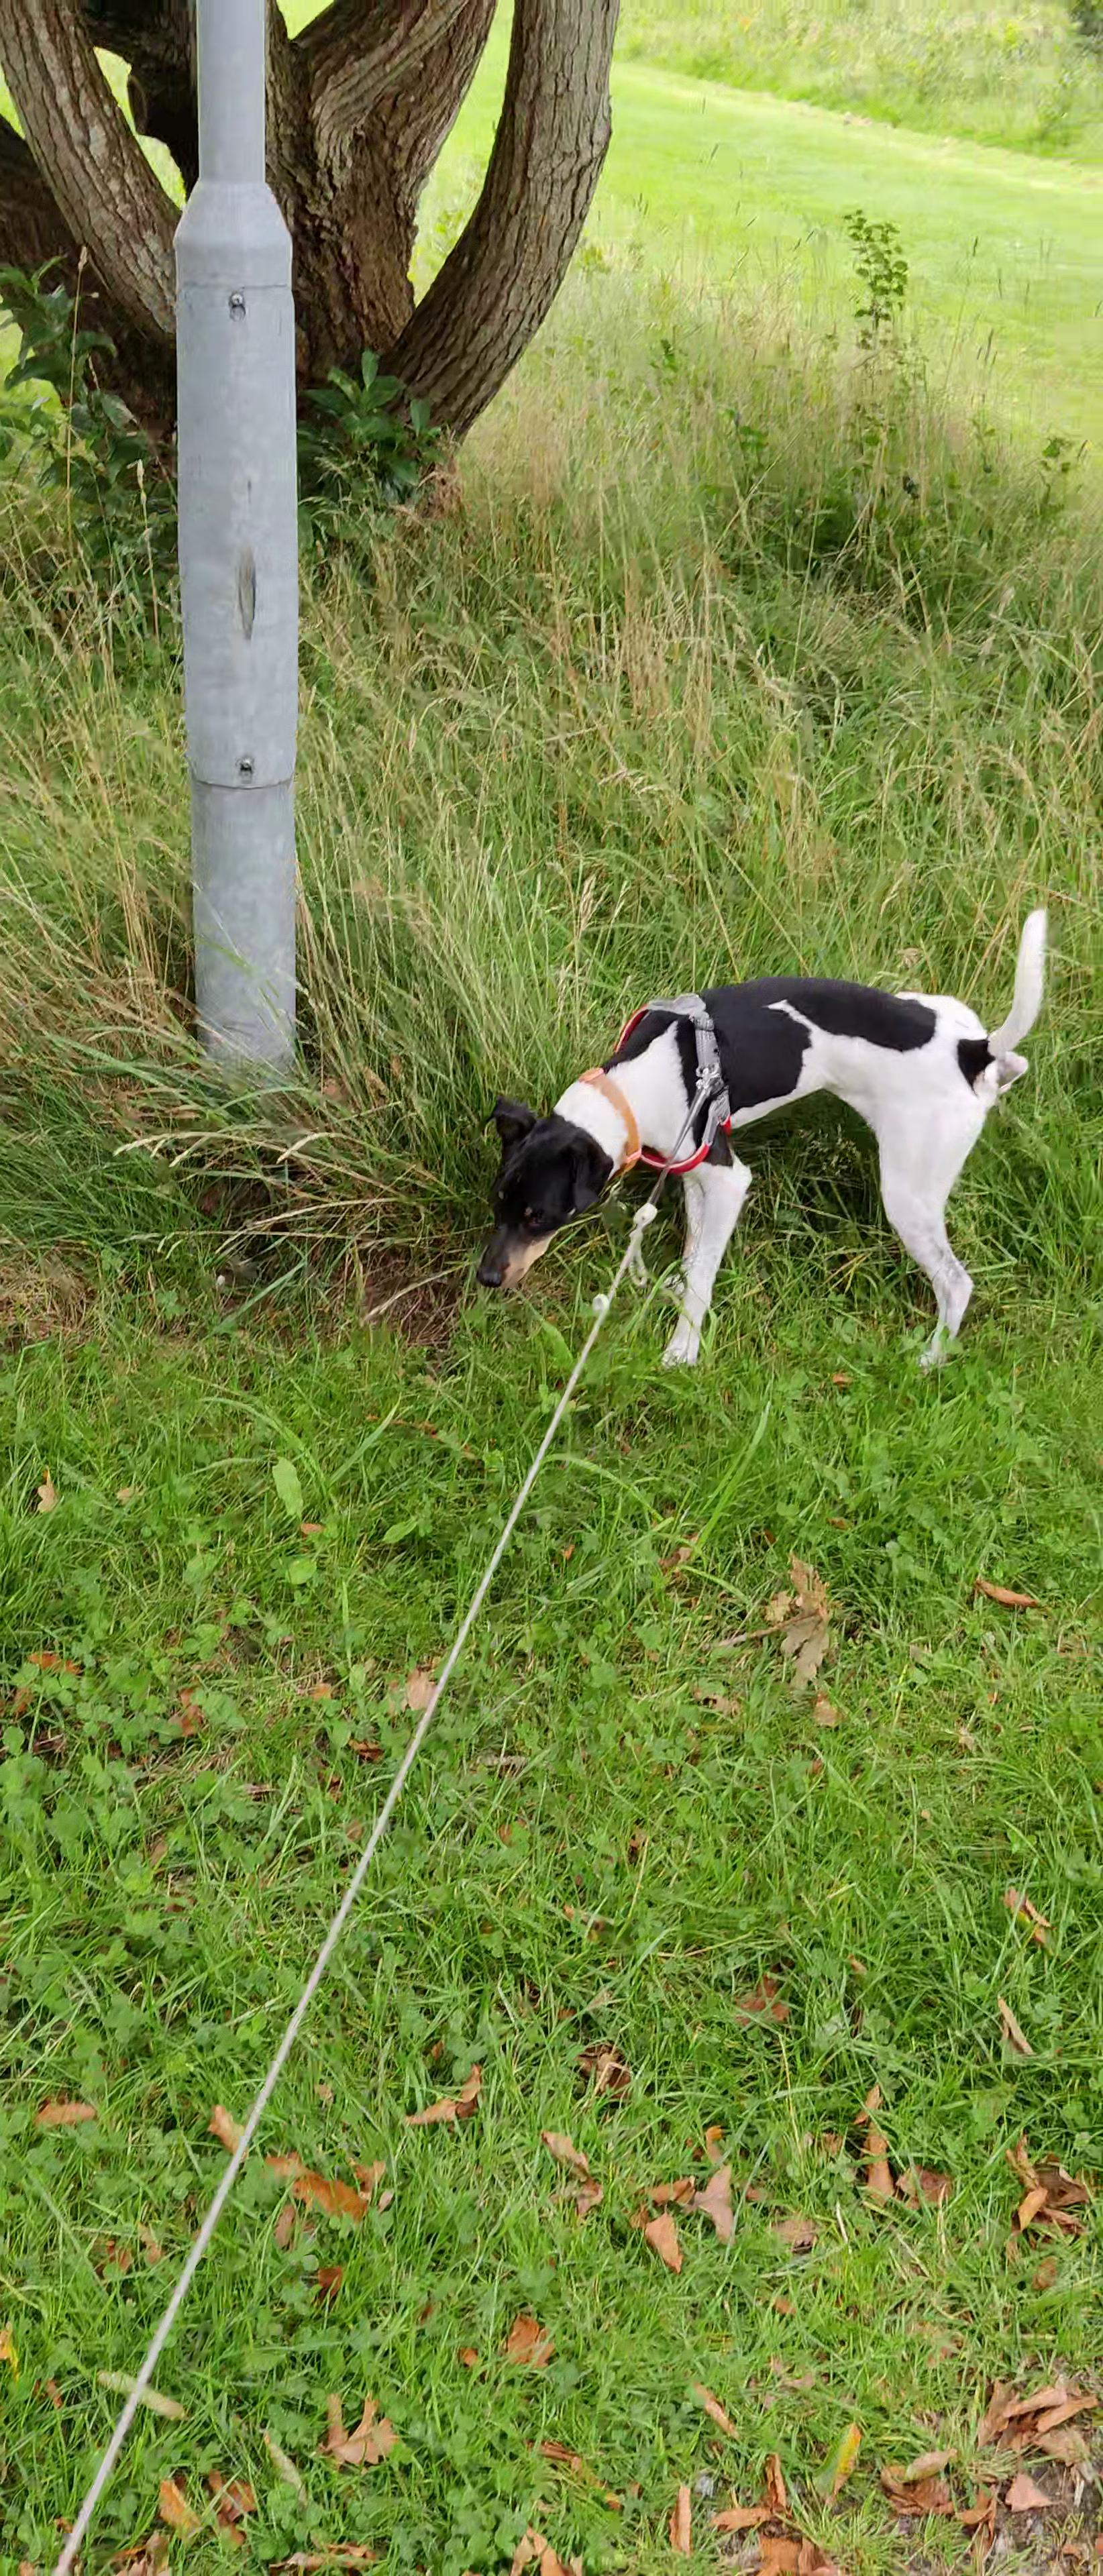Dog: (449, 877, 1065, 1390)
